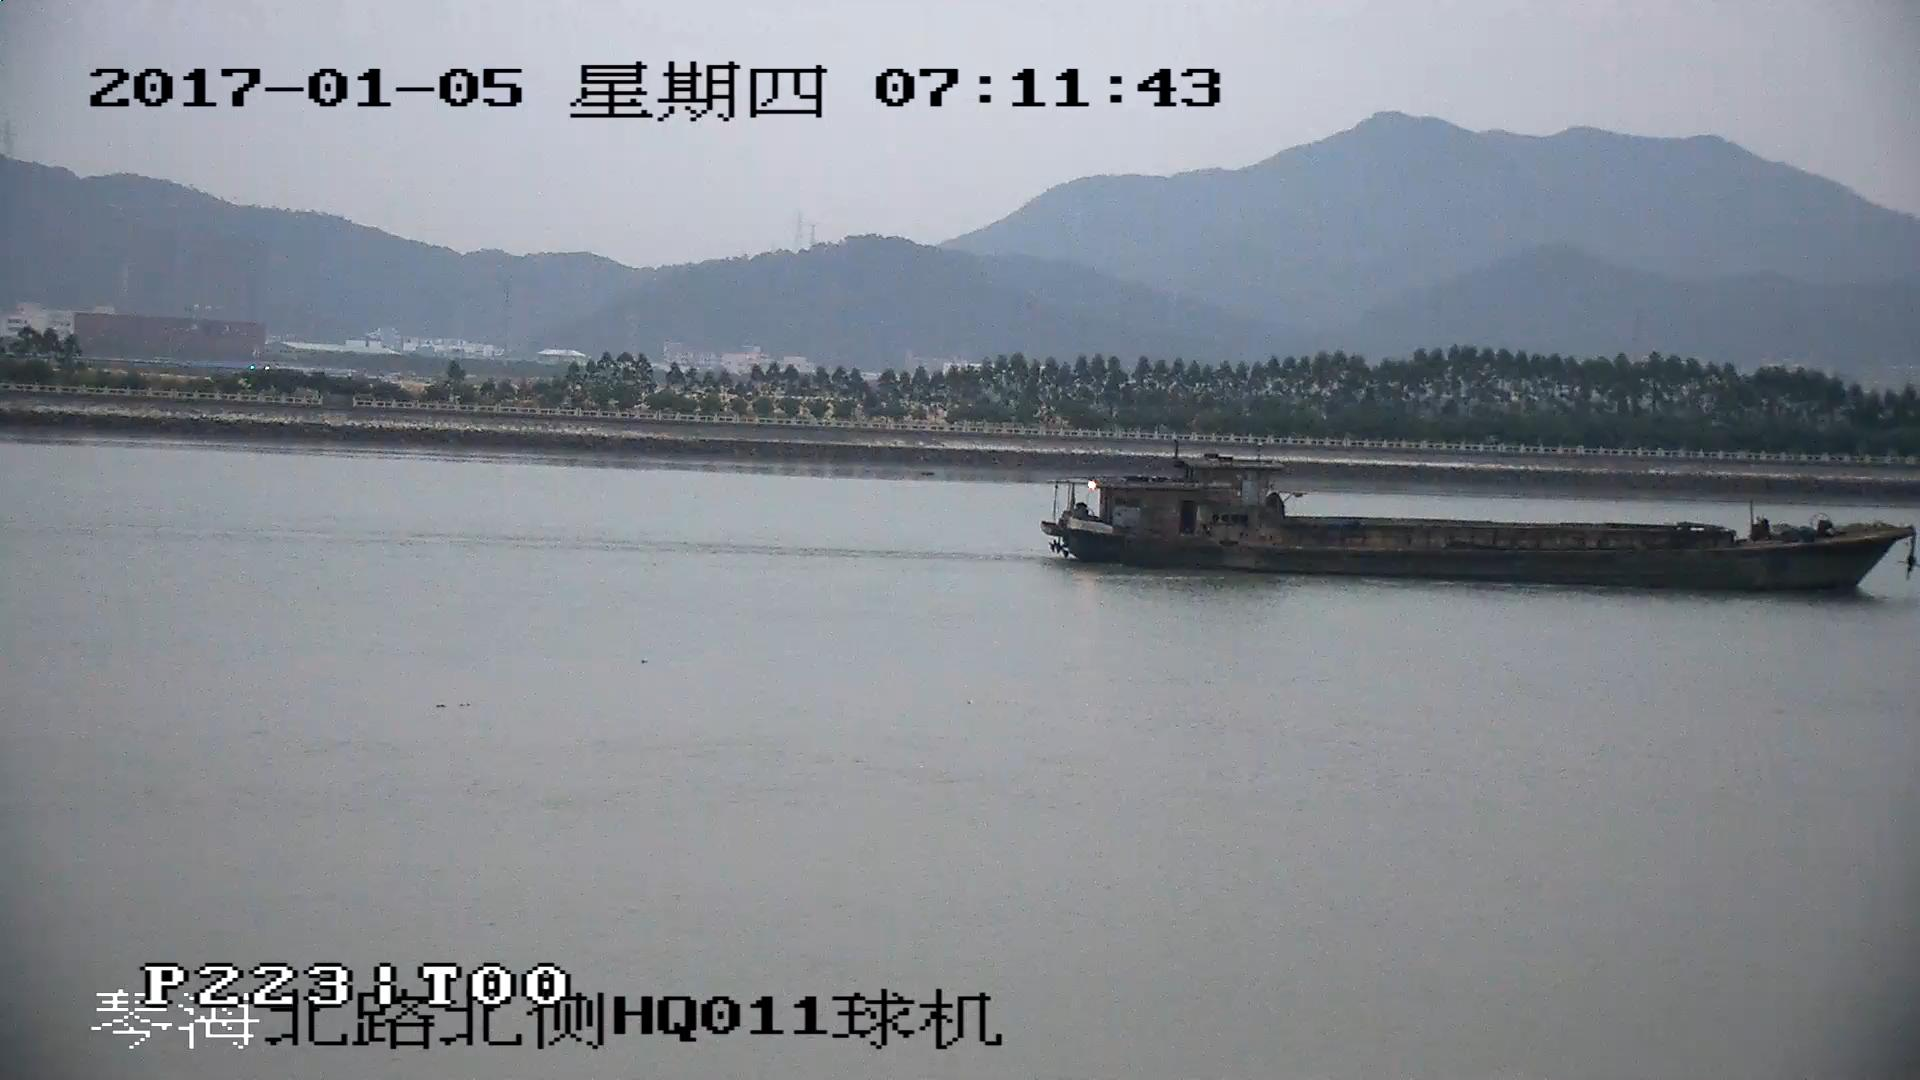bulk cargo carrier: (1041, 463, 1920, 591)
